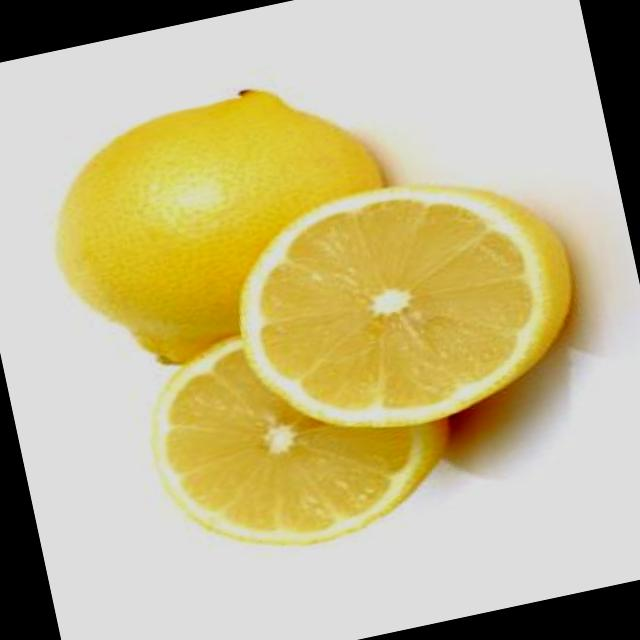lemon: (31, 45, 428, 387), (211, 152, 593, 456), (138, 298, 454, 570)
